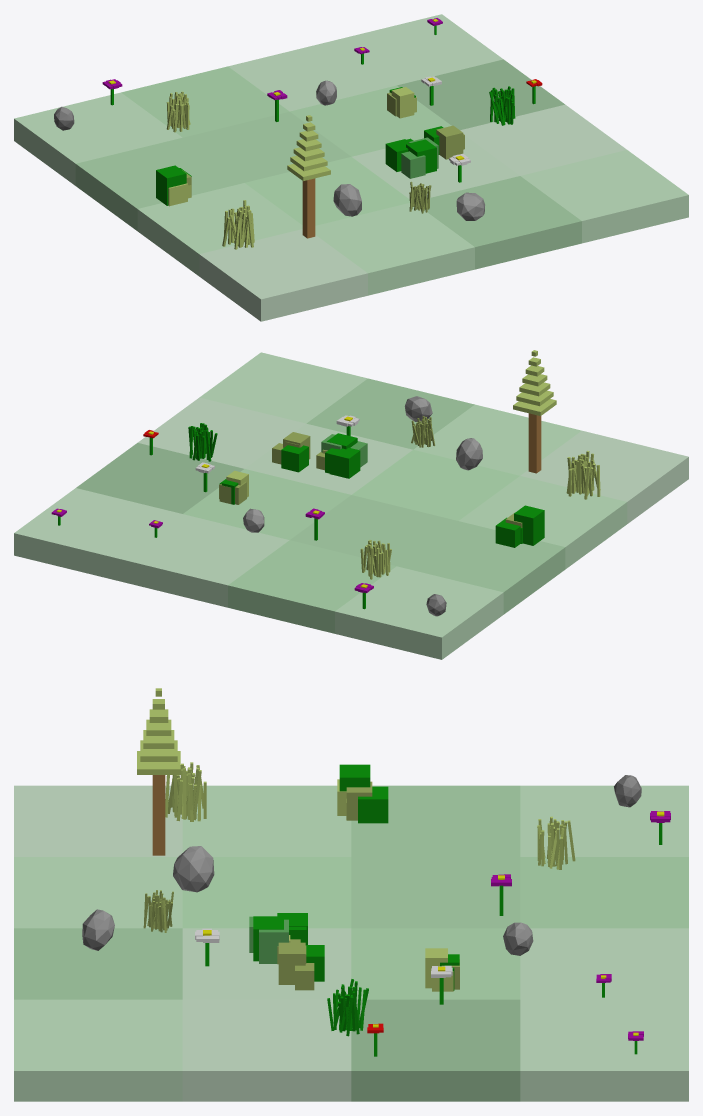
The model's file is plain.glb.
3 views of the same model, one above another, from view 1: azimuth 30°, elevation 25°; view 2: azimuth 150°, elevation 25°; view 3: azimuth 270°, elevation 25° (orthographic). The views are drawn at different scales.
Visible parts, largest first — view 1: world; view 2: world; view 3: world.
Boxes of the visible parts, x1=… form: world: x1=14, y1=14, x2=688, y2=321; world: x1=14, y1=350, x2=688, y2=659; world: x1=14, y1=688, x2=688, y2=1101.
Size of the model in its own units: 4 by 1.27 by 4.
